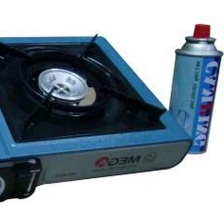aerosol_cans: (157, 20, 223, 158)
